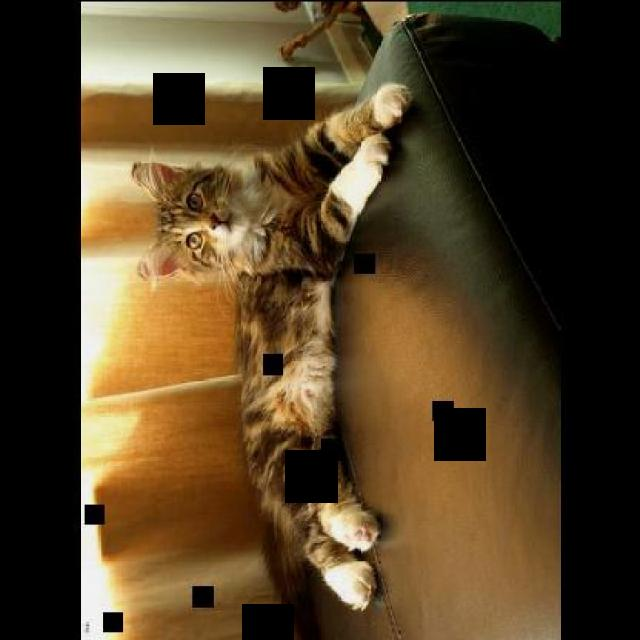unauthorized: (129, 81, 414, 638)
